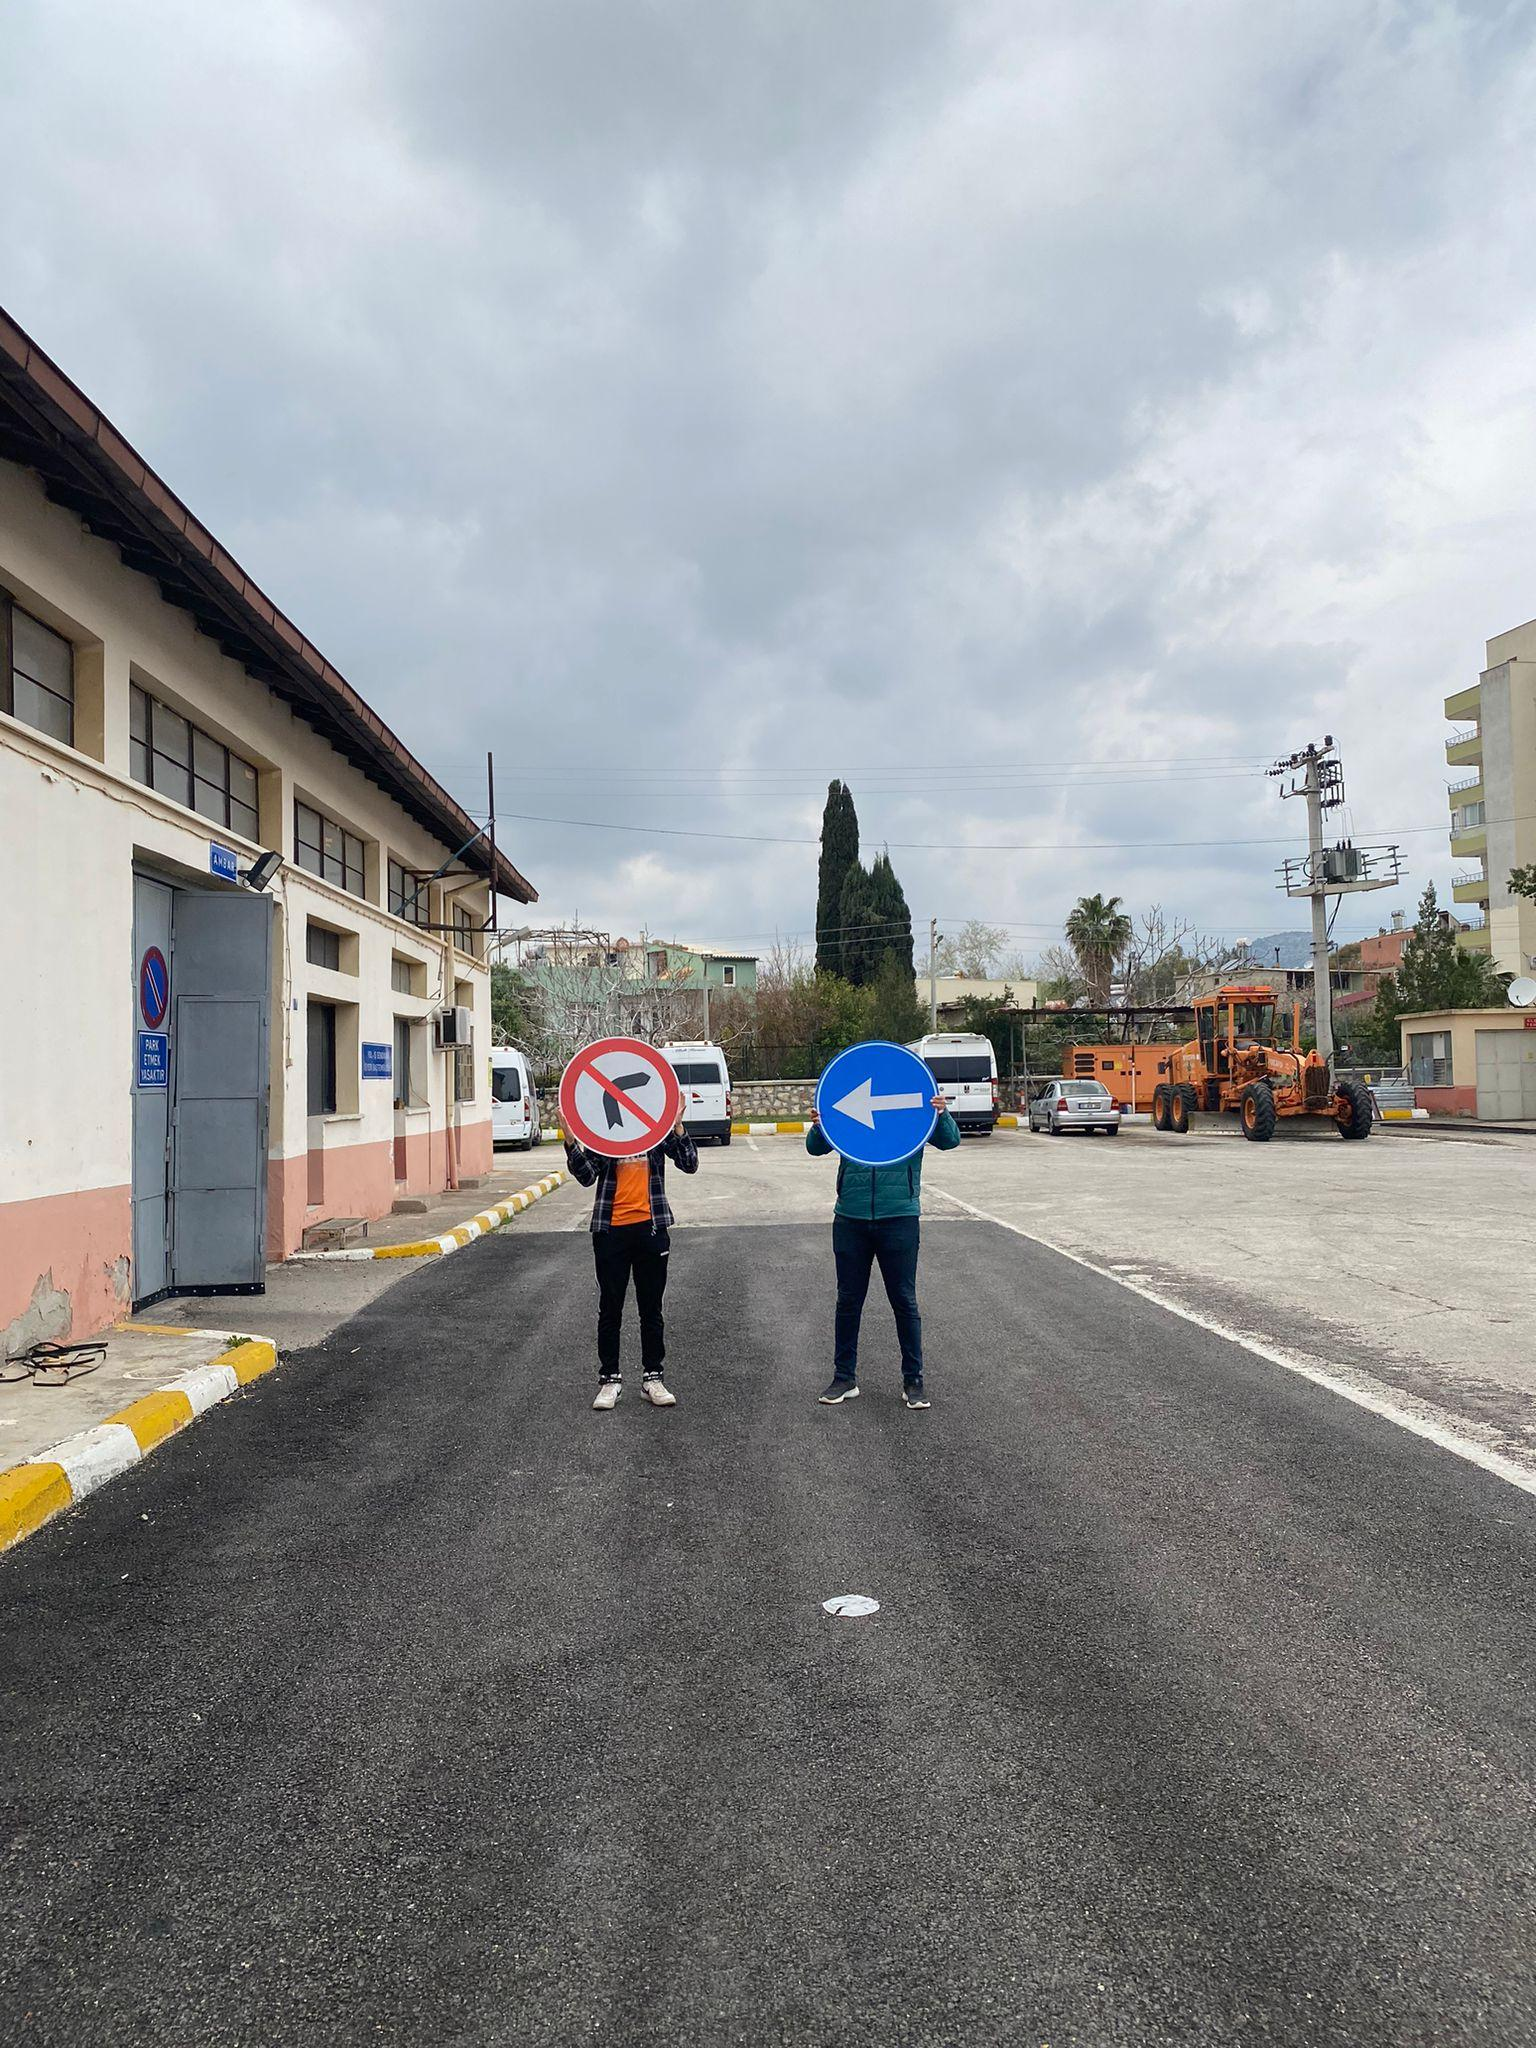rightturnsareforbidden: (560, 1039, 676, 1151)
turnleft: (816, 1042, 936, 1158)
